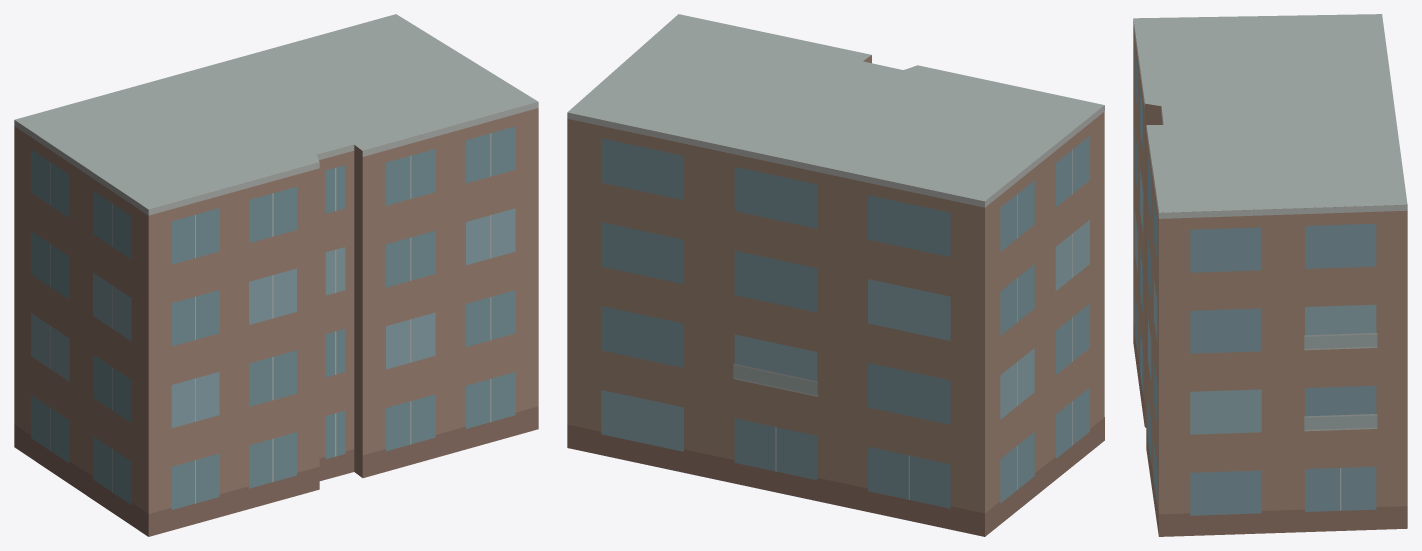
Rendered from survey-upis-32963692.glb.
3 views of the same model, side by side, from view 1: azimuth 30°, elevation 25°; view 2: azimuth 150°, elevation 25°; view 3: azimuth 270°, elevation 25° (orthographic). The views are drawn at different scales.
Parts seen in each view (by area): view 1: survey-upis-32963692.tmp; view 2: survey-upis-32963692.tmp; view 3: survey-upis-32963692.tmp.
Part boxes in pixels (bbox=[...]): survey-upis-32963692.tmp: bbox=[14, 14, 538, 536]; survey-upis-32963692.tmp: bbox=[567, 14, 1104, 536]; survey-upis-32963692.tmp: bbox=[1133, 14, 1407, 536].
Bounding box in the file's own units: 17.25 × 13.1 × 10.06.
